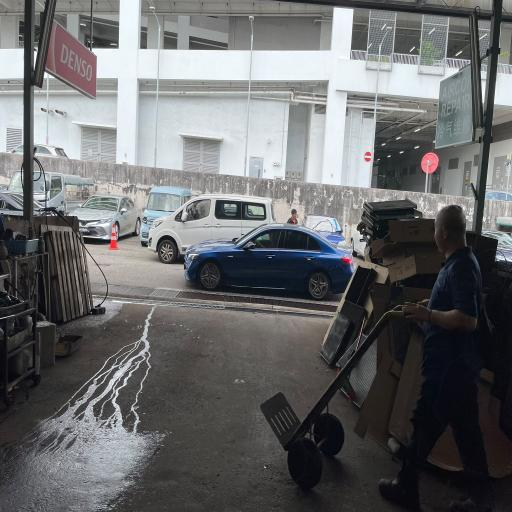person_left: (260, 205, 499, 512)
